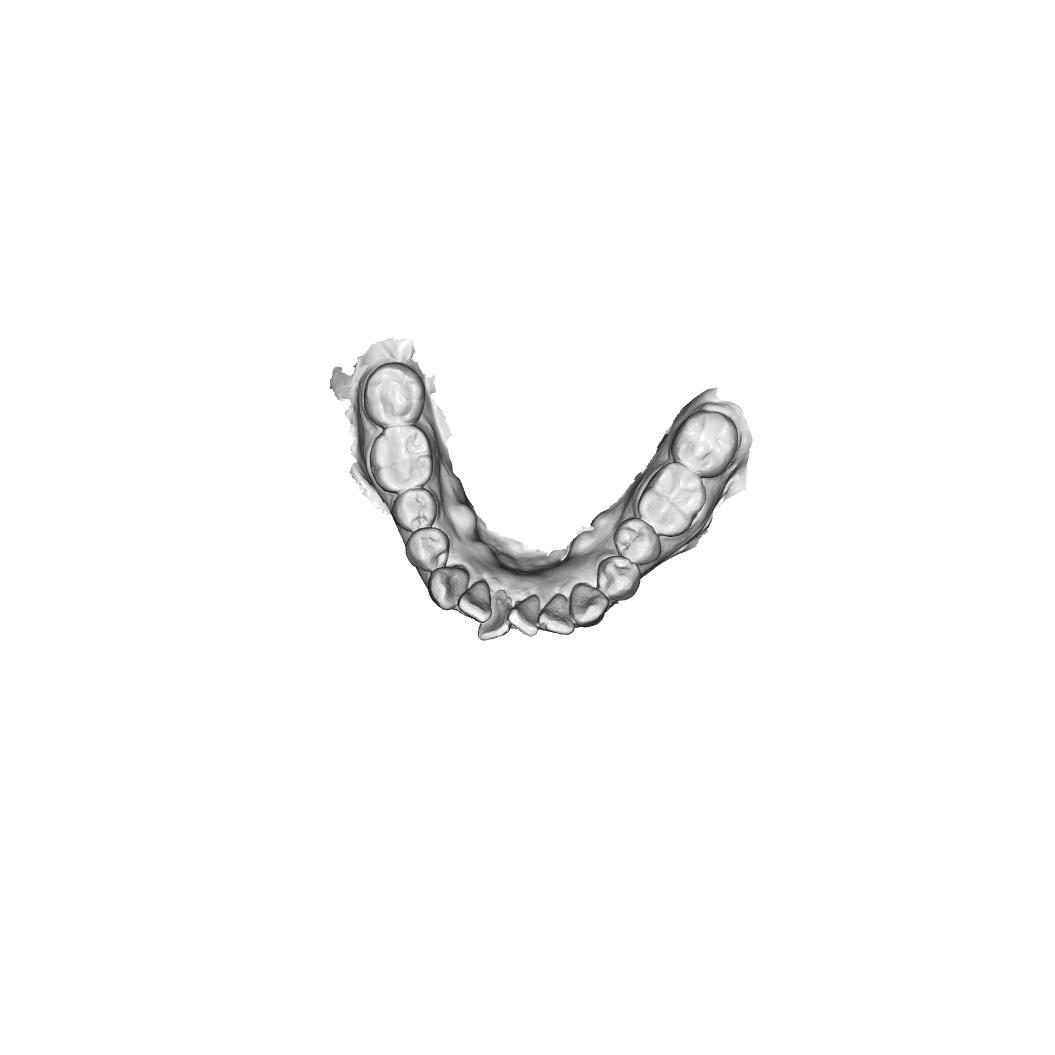canine: (427, 566, 470, 611), (568, 582, 609, 628)
incisor: (538, 593, 575, 636), (477, 597, 512, 642), (457, 580, 492, 623), (507, 595, 541, 638)
molar: (637, 461, 707, 538), (670, 409, 739, 479), (369, 425, 434, 494), (362, 362, 426, 427)
premolar: (612, 517, 662, 566), (595, 555, 641, 601), (404, 527, 451, 572), (391, 487, 438, 531)
